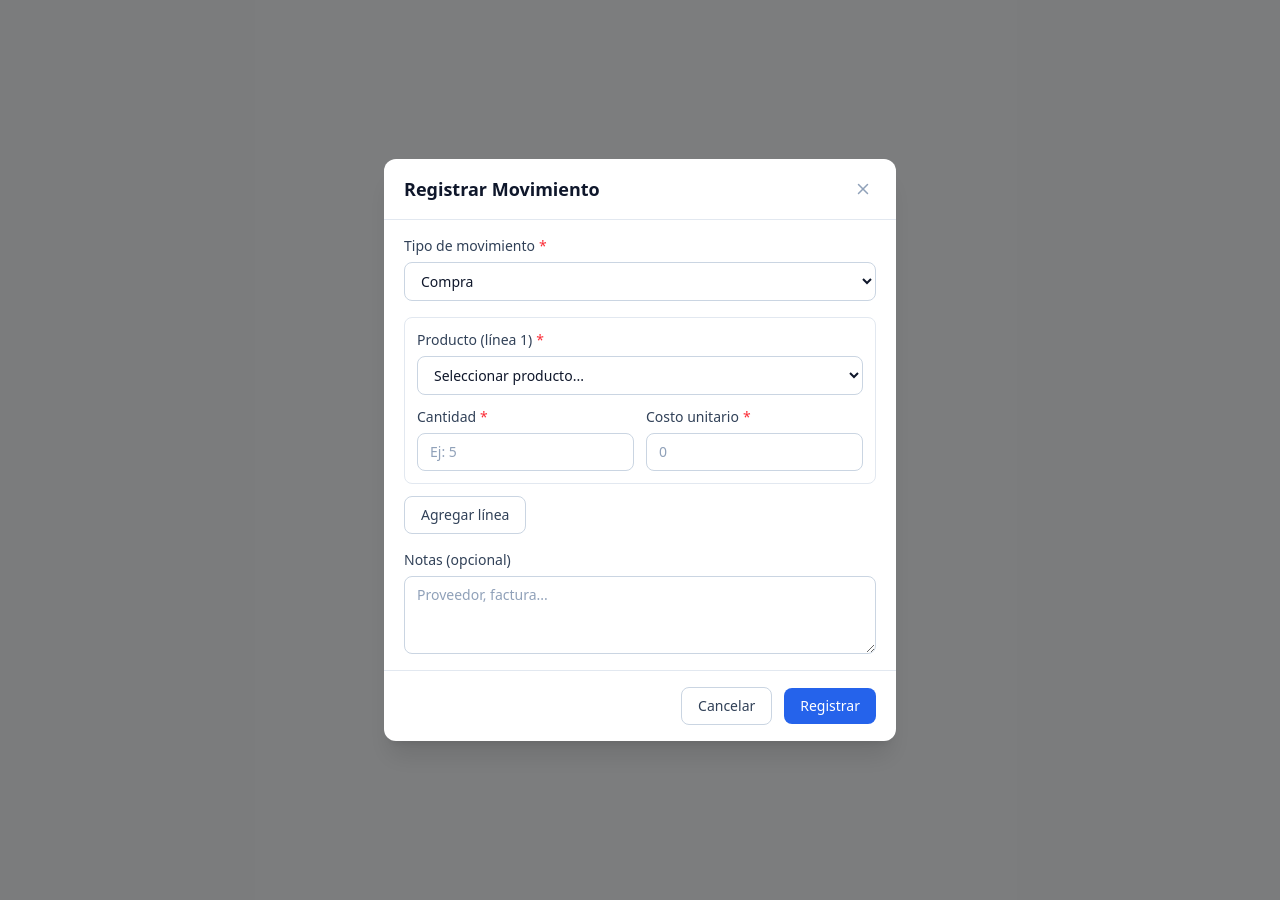
Test: MovimientoInventarioModal › Ajuste › exige sentido y nota
Select "Ajuste" in the dropdown named "Tipo de movimiento" at (640, 282), box [404,262,876,301]
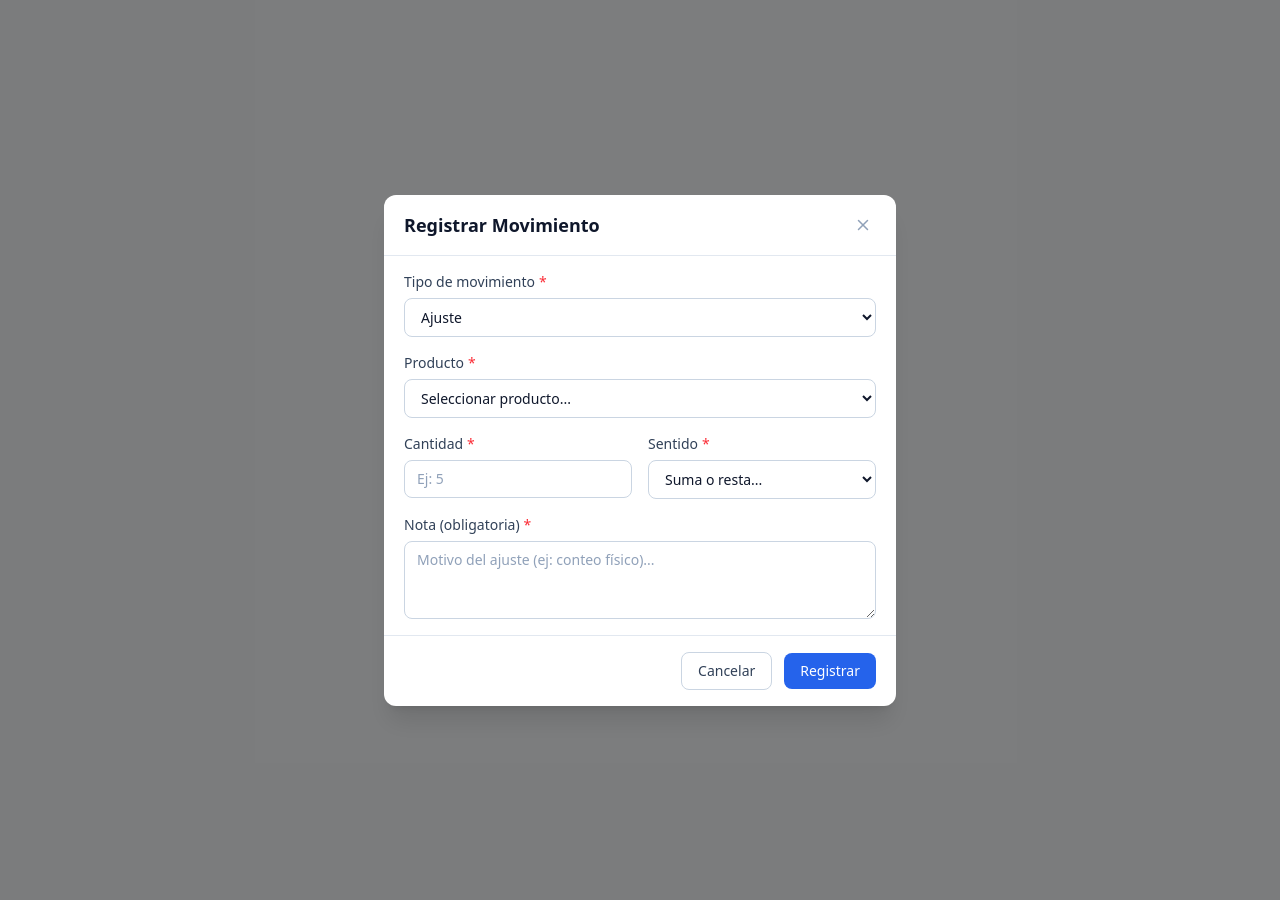
Select "B-1 · Batería" in the dropdown named "Producto" at (640, 398), box [404,378,876,418]
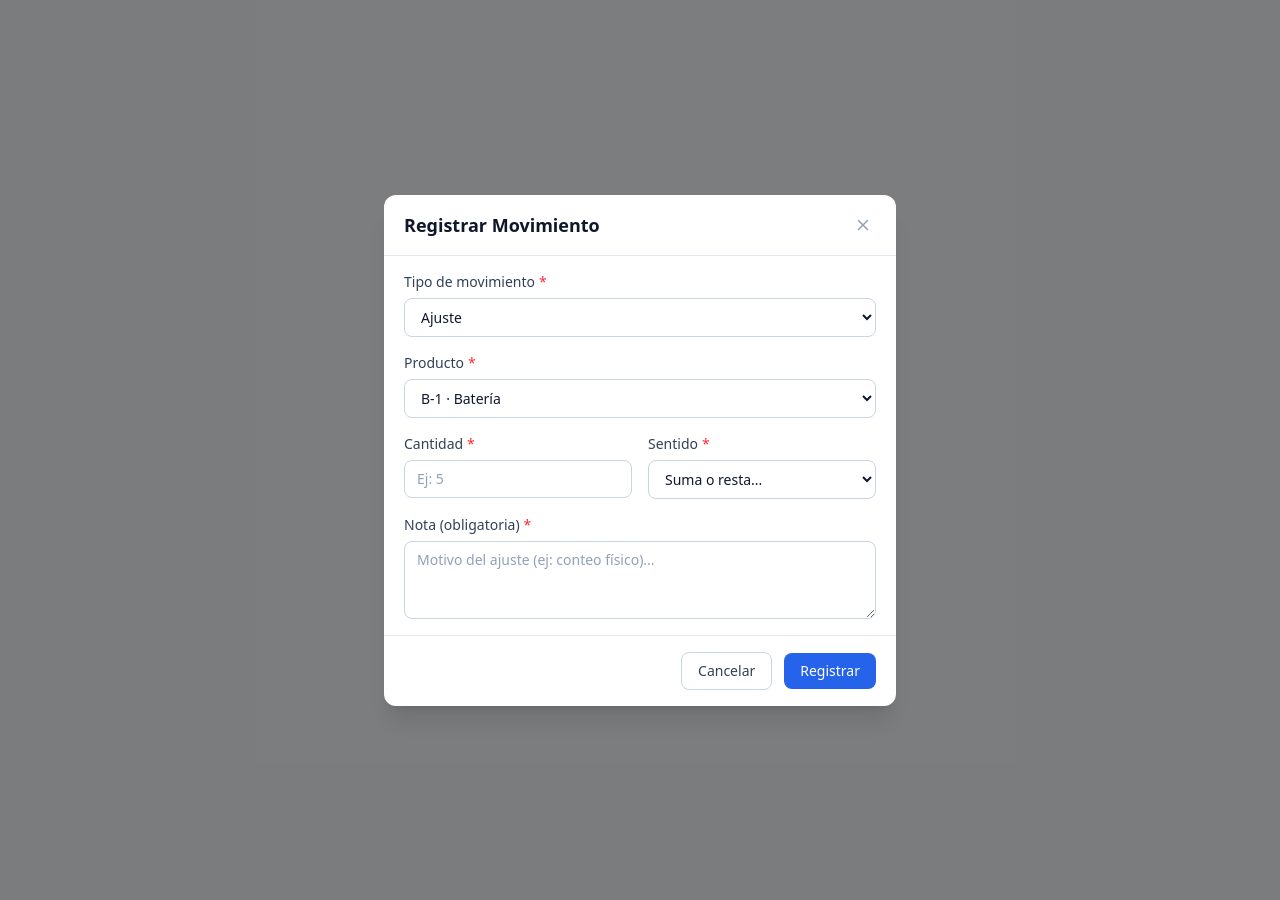
Type "1" into the number field named "Cantidad" at (518, 478), box [404,460,632,498]
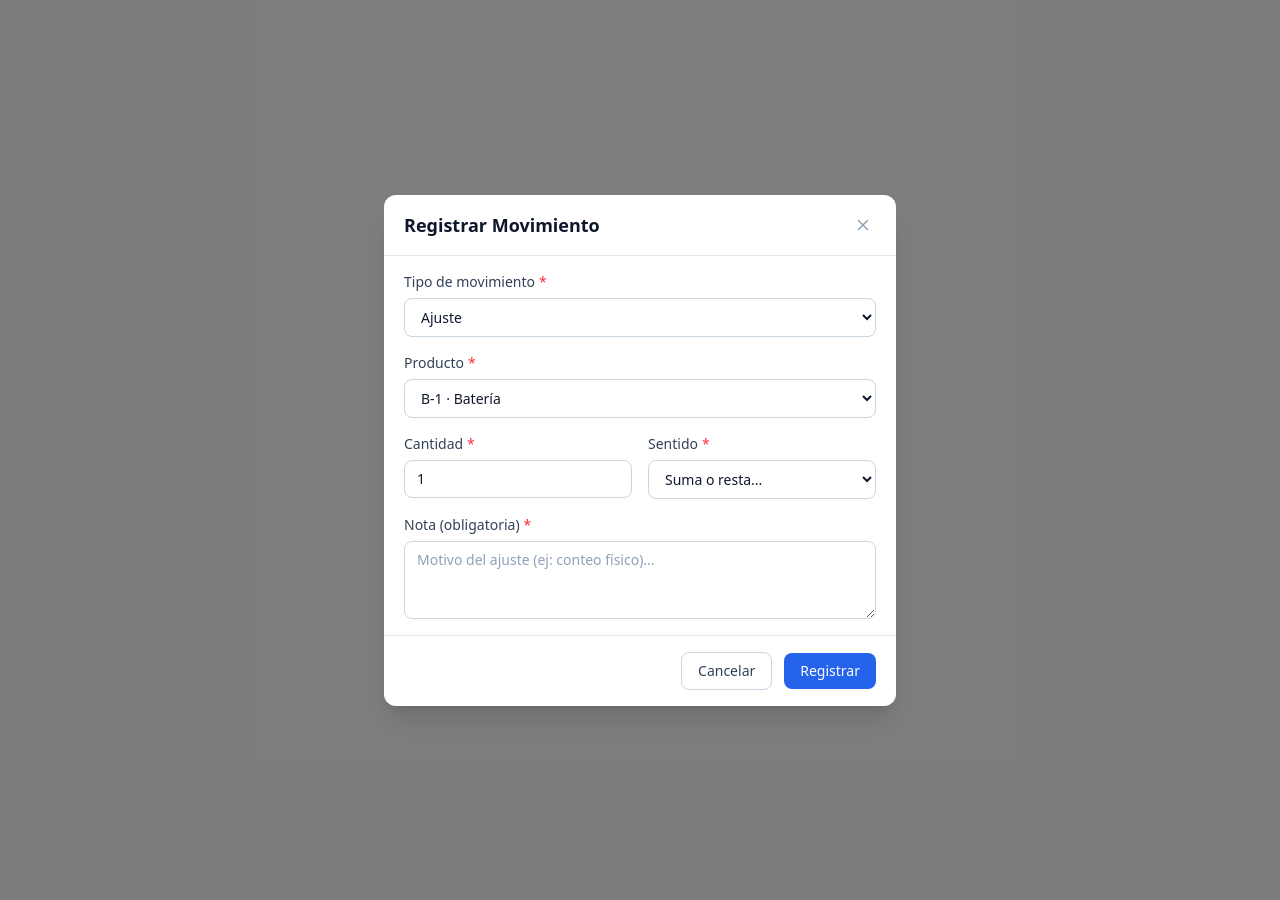
Click the button "Registrar" at (830, 670), box [784,652,876,688]
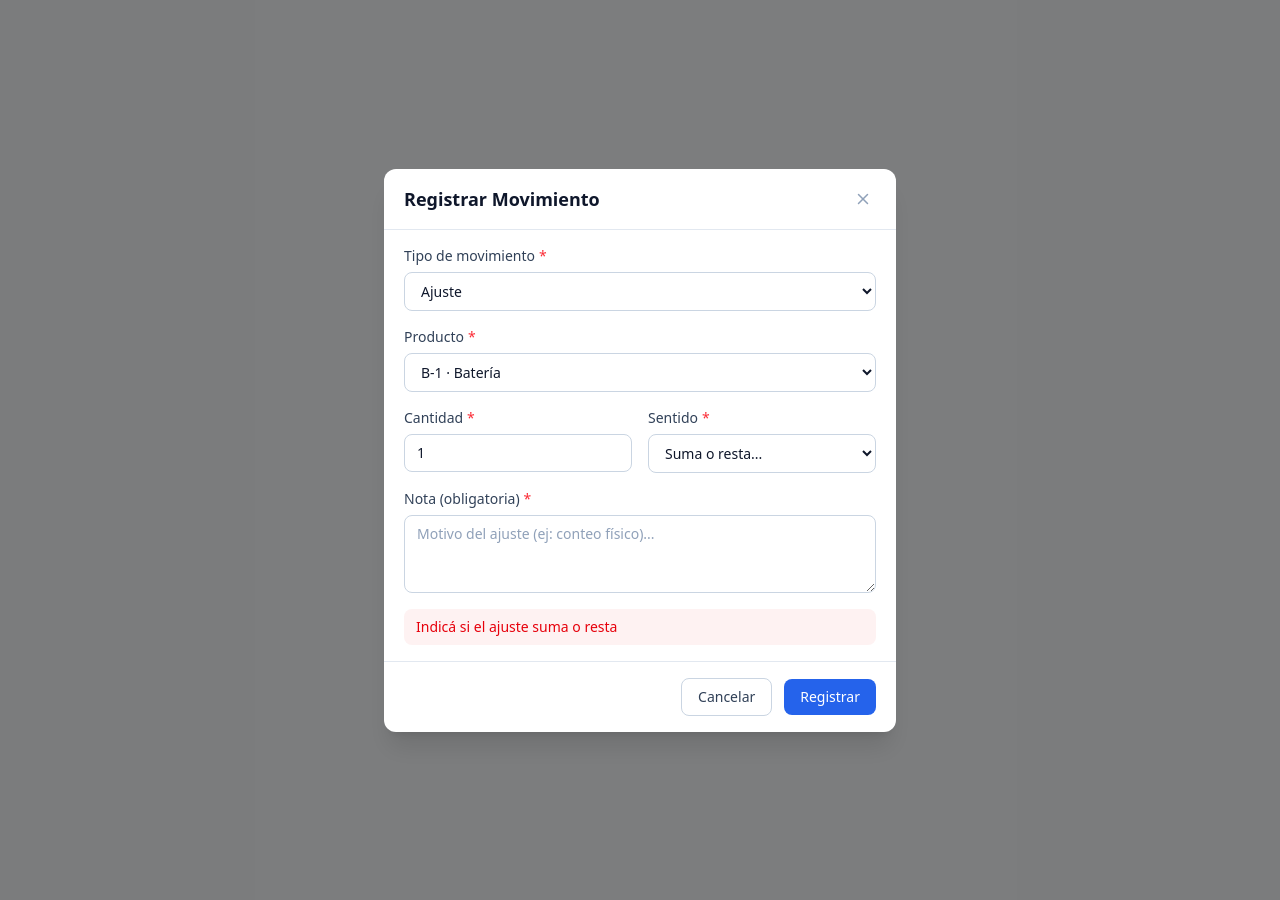
Now the message shows "suma o resta", box [416,616,617,636]
Select "Suma al stock" in the dropdown named "Sentido" at (762, 453), box [648,434,876,472]
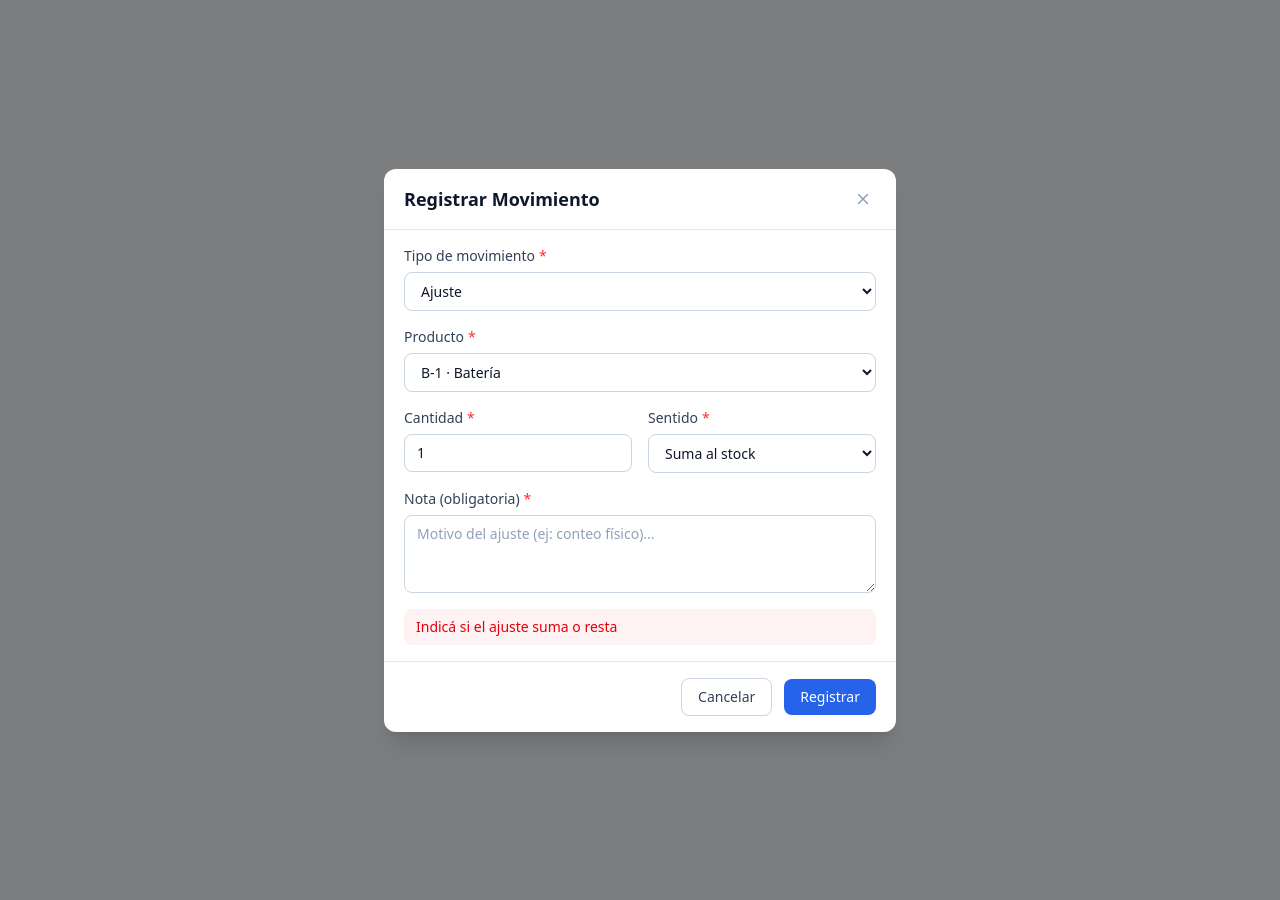
Click the button "Registrar" at (830, 696), box [784,678,876,714]
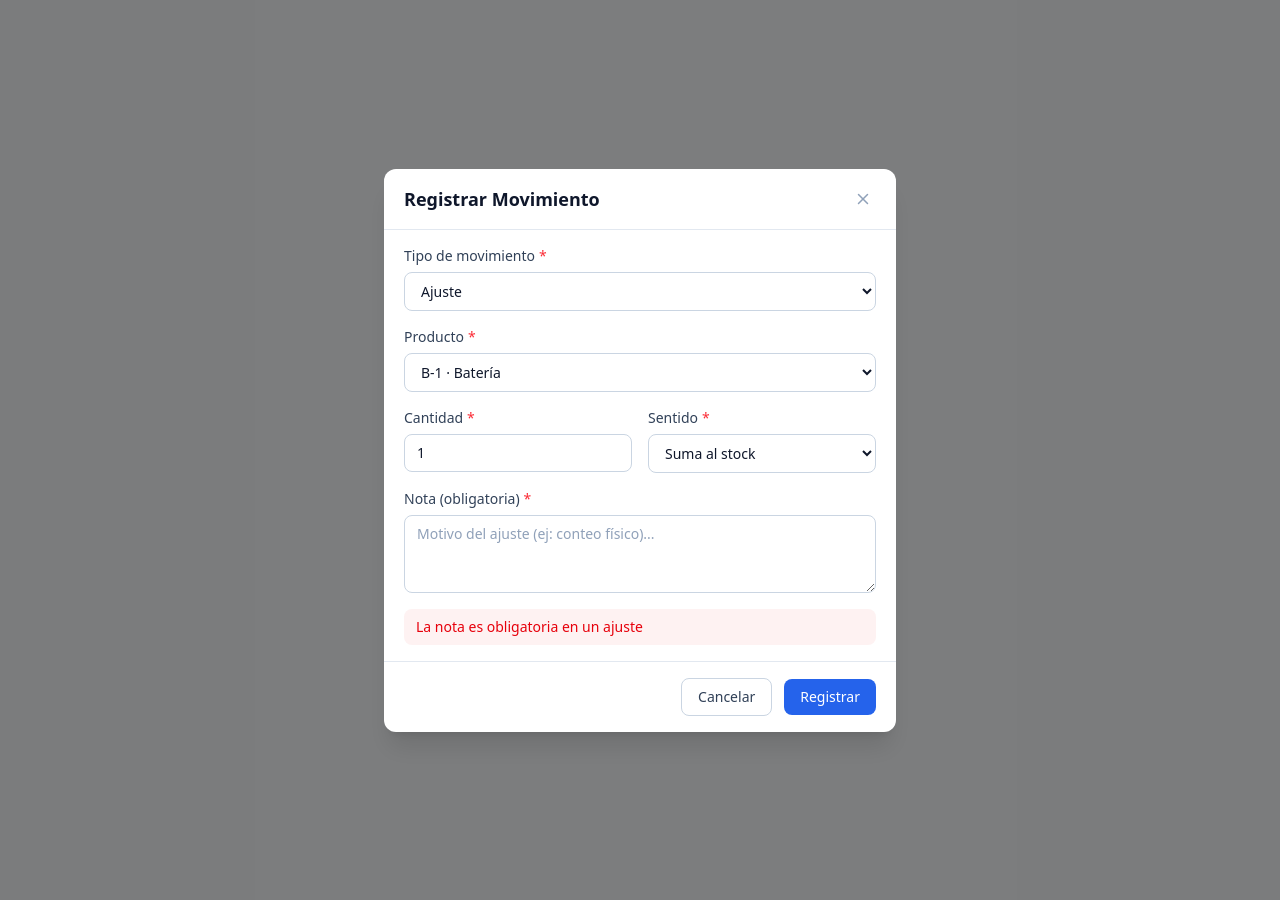
Now the message shows "La nota es obligatoria", box [416,616,643,636]
